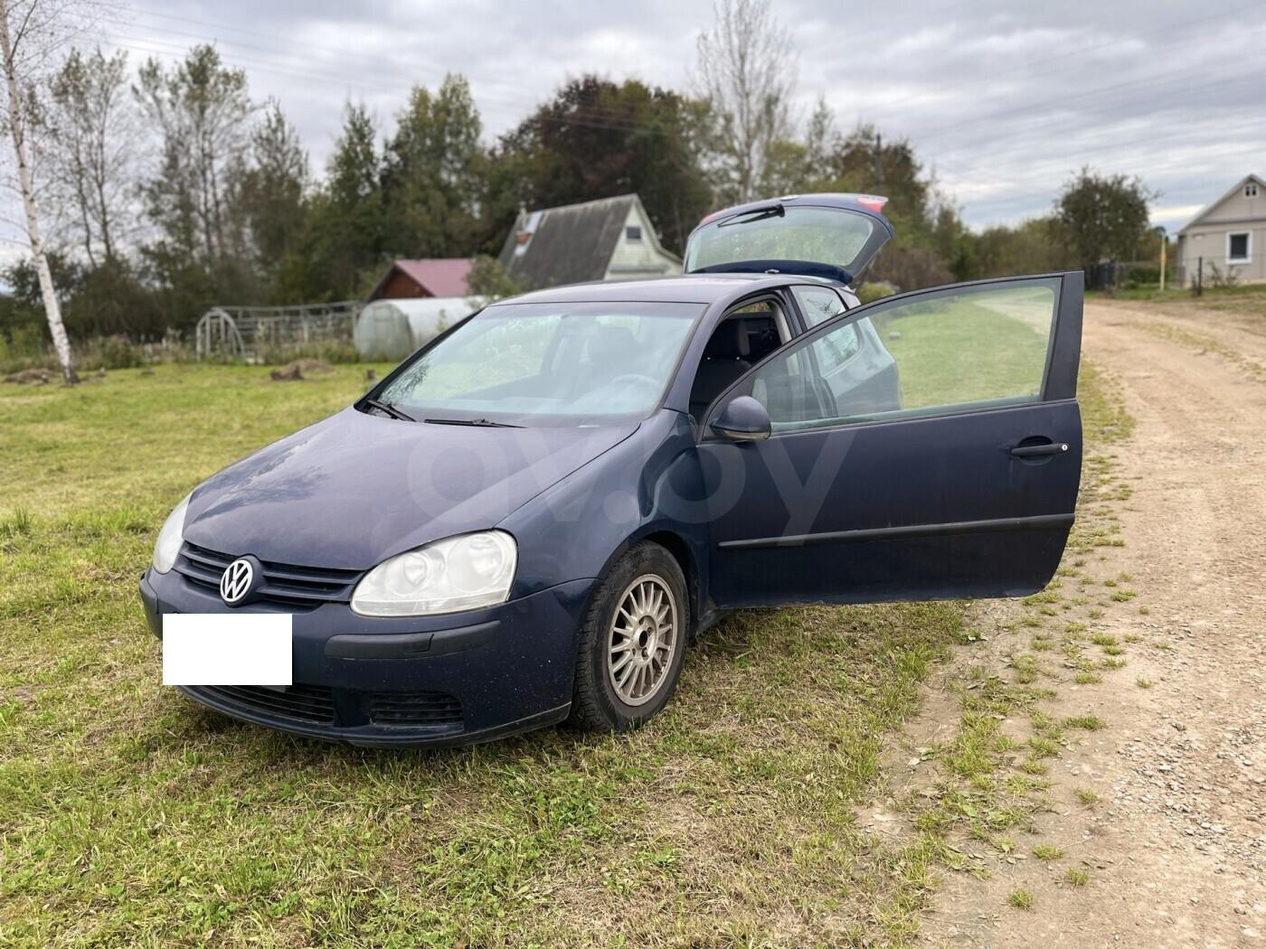Golf_2003-2009: (141, 261, 1093, 733)
